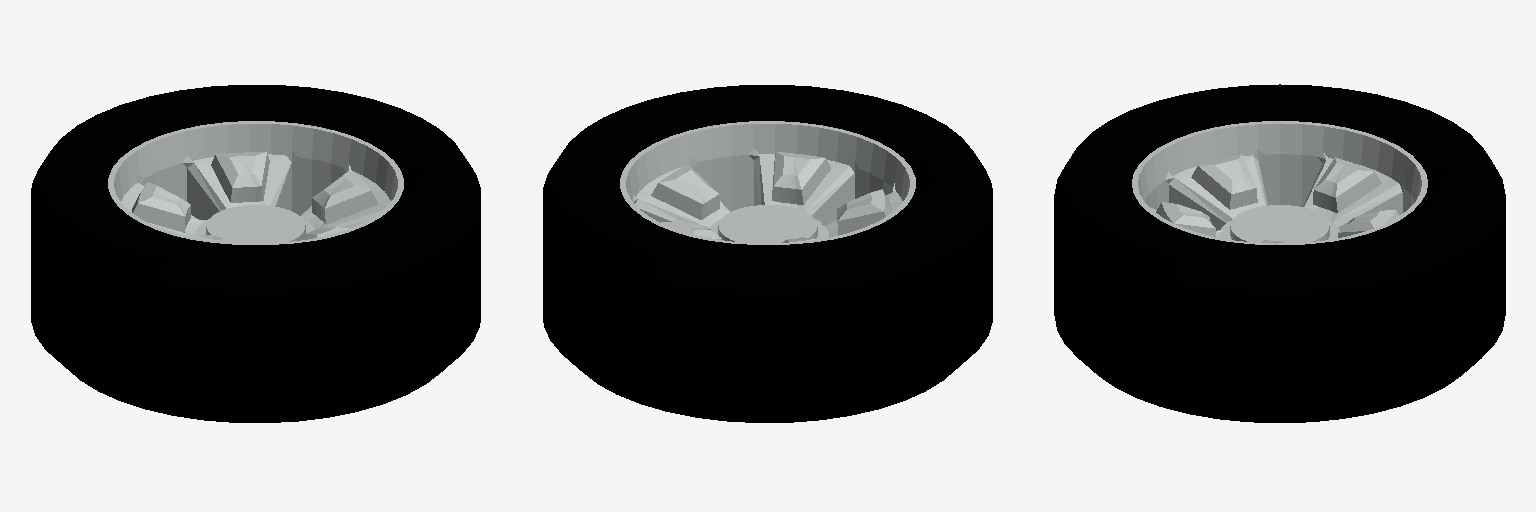
File: porsche_wheel_left.obj
The picture shows the model from 3 angles: view 1: azimuth 30°, elevation 25°; view 2: azimuth 150°, elevation 25°; view 3: azimuth 270°, elevation 25°; orthographic projection.
Parts seen in each view (by area): view 1: BLACK_MATTE, VP_CHROME; view 2: BLACK_MATTE, VP_CHROME; view 3: BLACK_MATTE, VP_CHROME.
Part boxes in pixels (x1,y1,x2,y2): BLACK_MATTE: (31,85,480,422); VP_CHROME: (108,121,403,244); BLACK_MATTE: (543,85,992,422); VP_CHROME: (620,121,915,244); BLACK_MATTE: (1054,84,1505,422); VP_CHROME: (1132,121,1427,244).
Bounding box in the file's own units: 0.4201 × 0.1679 × 0.4201.